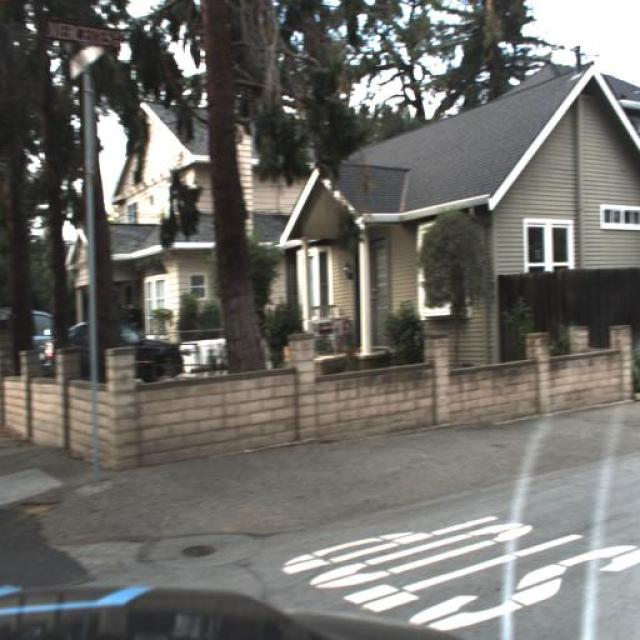car: (34, 323, 184, 383)
